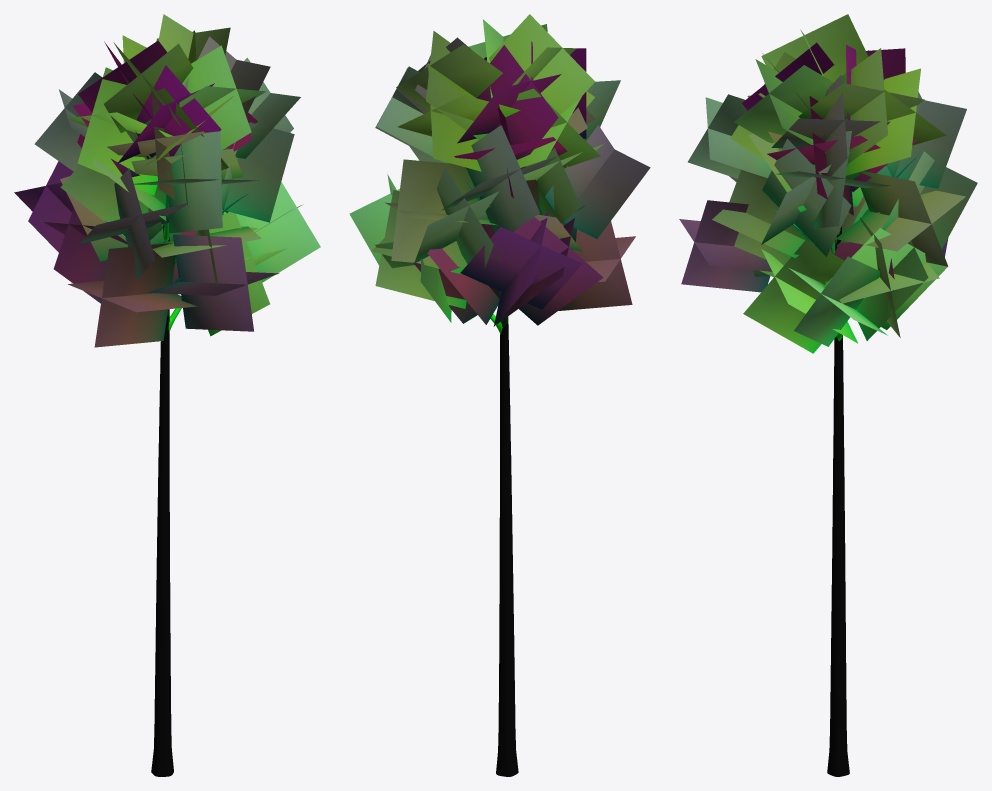
File: URP_P5_Tree_4_LOD_0.fbx
The picture shows the model from 3 angles, left to right: view 1: azimuth 30°, elevation 25°; view 2: azimuth 150°, elevation 25°; view 3: azimuth 270°, elevation 25°; orthographic projection.
Parts seen in each view (by area): view 1: Tree_4_LOD_0; view 2: Tree_4_LOD_0; view 3: Tree_4_LOD_0.
Part boxes in pixels (x1,y1,x2,y2): Tree_4_LOD_0: (14, 14, 320, 776); Tree_4_LOD_0: (349, 14, 650, 776); Tree_4_LOD_0: (679, 14, 977, 776).
Size of the model in its own units: 251 by 699 by 255.
